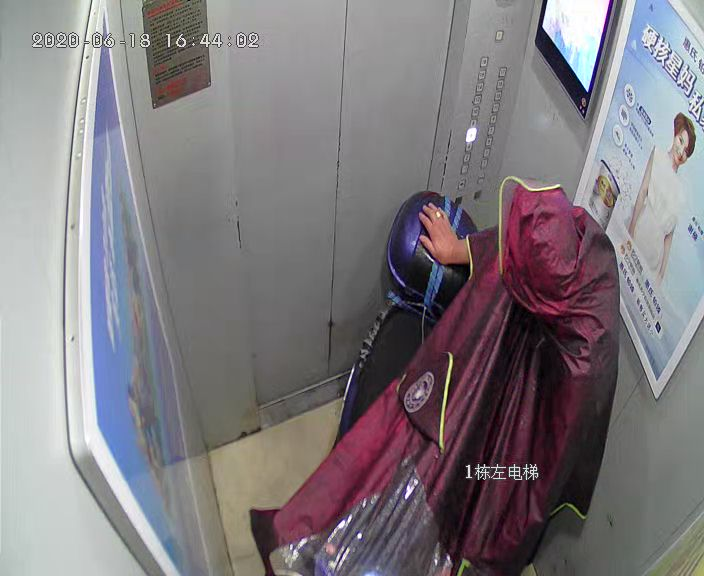Electric-bicycle: (286, 188, 479, 576)
